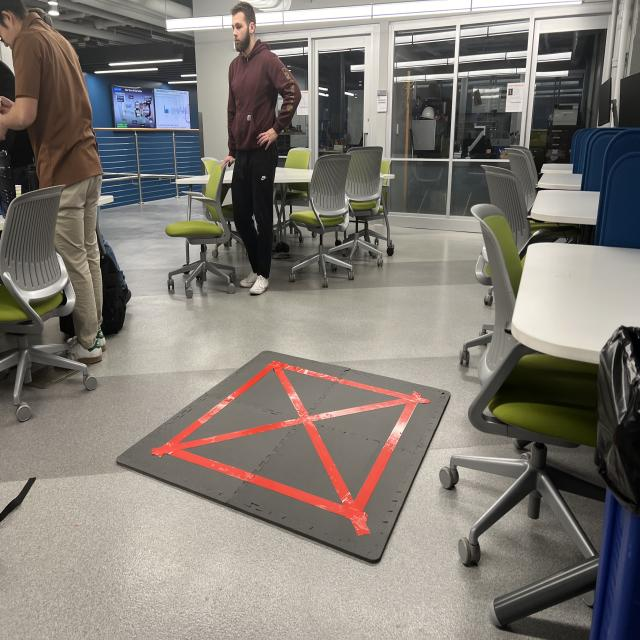landingPads: (119, 348, 452, 564)
